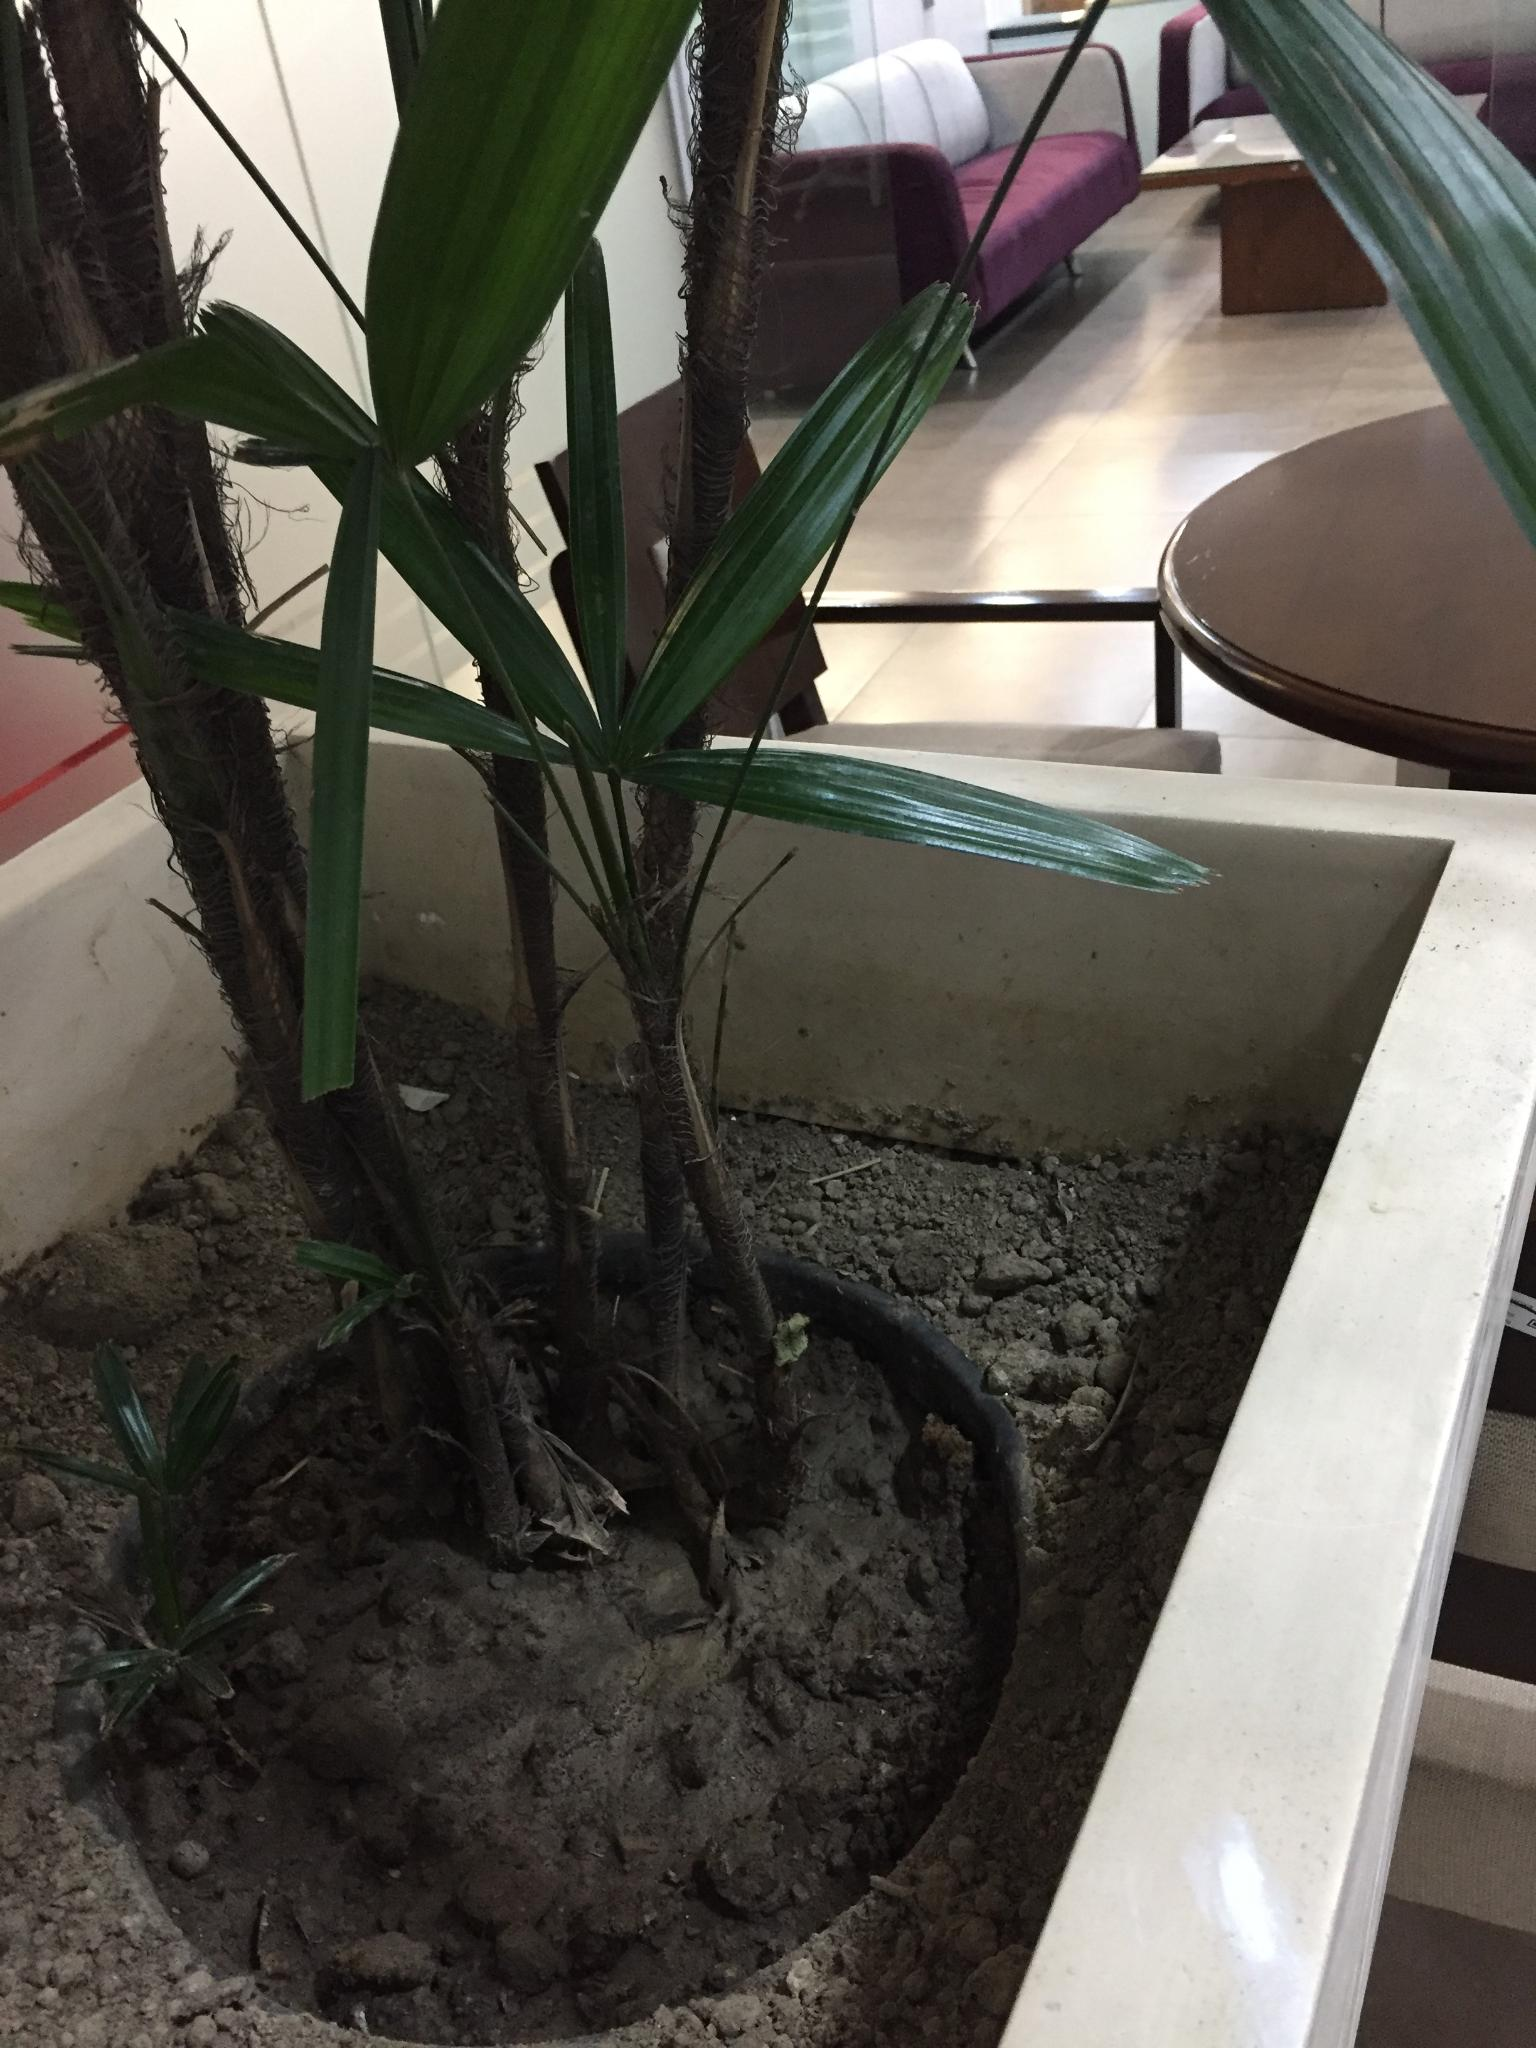chair: (600, 384, 1268, 1243)
